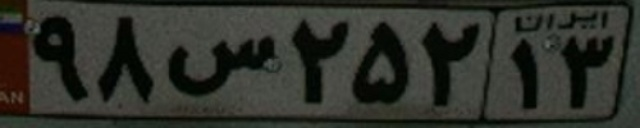1: (508, 37, 541, 110)
2: (416, 21, 479, 106), (291, 19, 346, 104)
3: (556, 34, 615, 109)
5: (351, 20, 409, 104)
8: (95, 15, 153, 103)
9: (28, 14, 89, 101)
sin: (165, 34, 278, 96)
